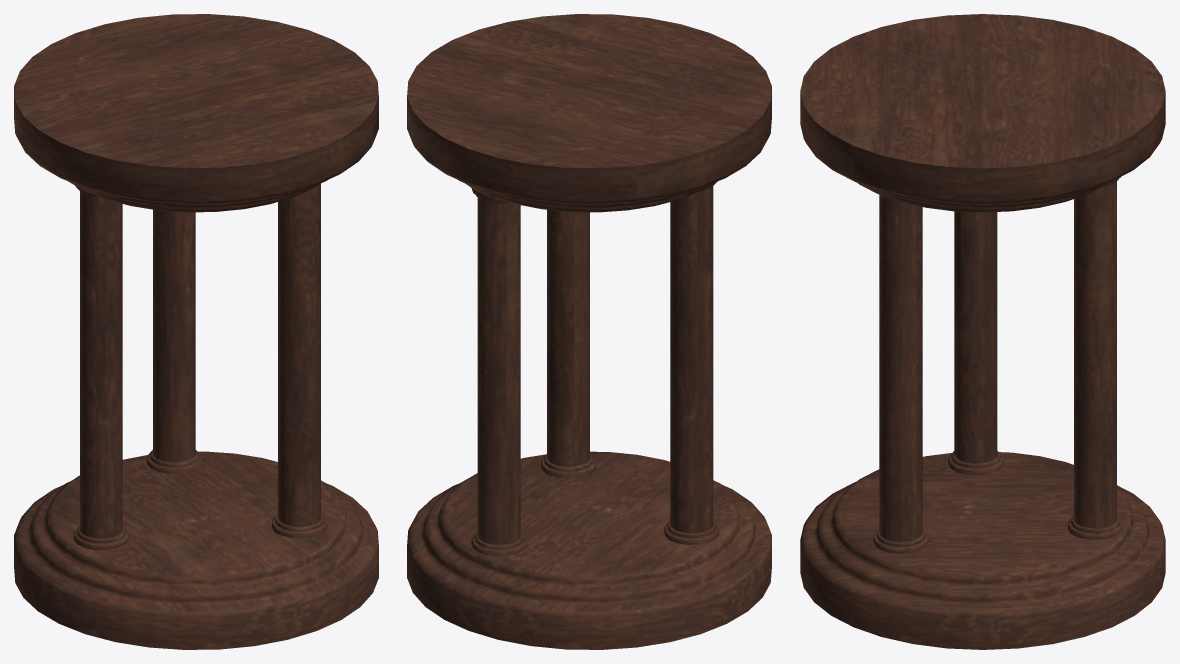
Rendered from simple_hour_glass 1.glb.
3 renders of one model, left to right at view 1: azimuth 30°, elevation 25°; view 2: azimuth 150°, elevation 25°; view 3: azimuth 270°, elevation 25°, orthographic.
Parts seen in each view (by area): view 1: Object_2; view 2: Object_2; view 3: Object_2.
Boxes of the visible parts, x1,y1,x2,y2 form: Object_2: (14,14,378,649); Object_2: (407,14,771,649); Object_2: (800,14,1165,649).
Bounding box in the file's own units: 2 × 2.91 × 2.
1 material, 1 textured.
